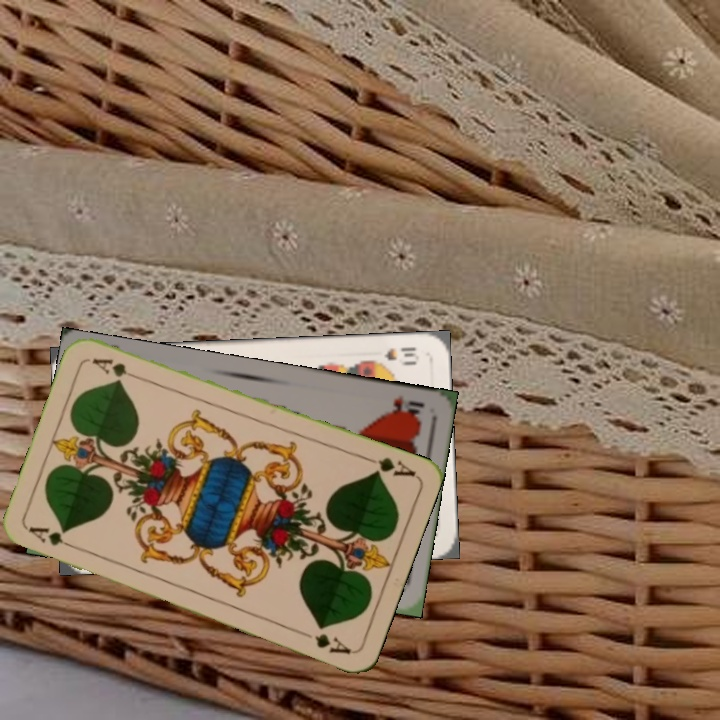GA: (25, 522, 82, 553), (360, 452, 418, 480)
HO: (381, 390, 427, 420)
S10: (366, 342, 422, 367)
